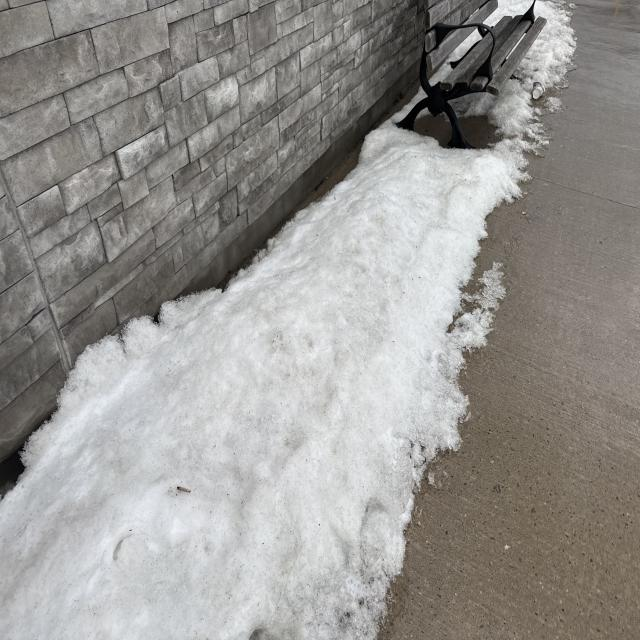Bench: (402, 3, 530, 142)
